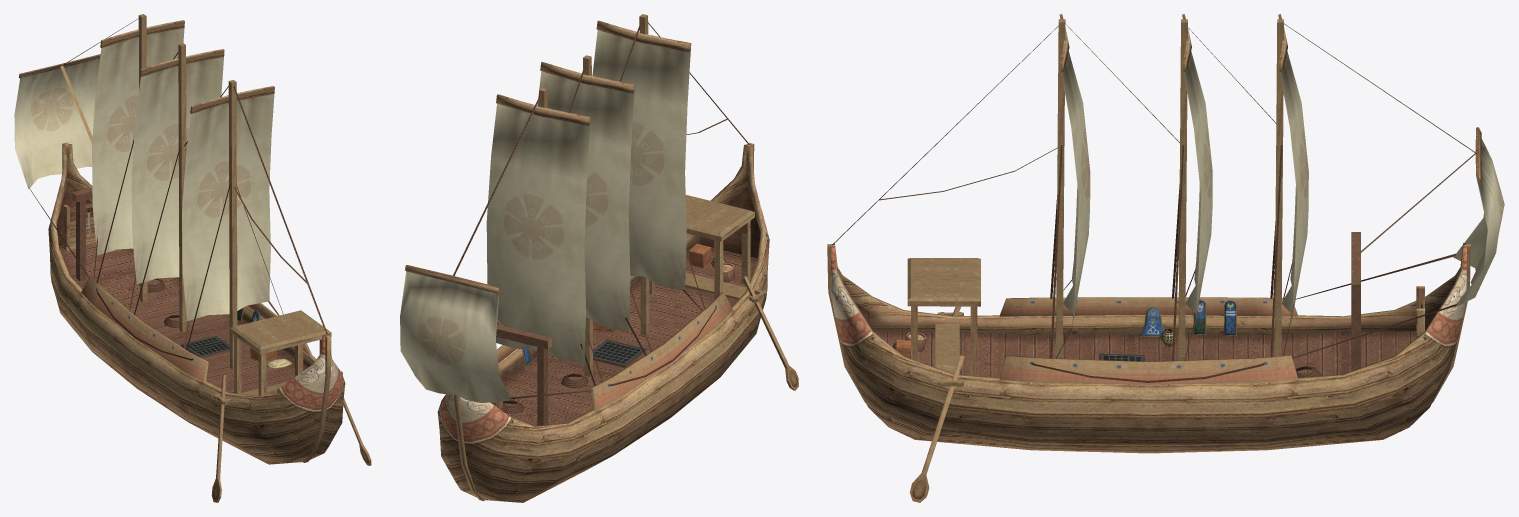
The model's file is maur_trireme.glb.
3 views of the same model, side by side, from view 1: azimuth 30°, elevation 25°; view 2: azimuth 150°, elevation 25°; view 3: azimuth 270°, elevation 25° (orthographic). The views are drawn at different scales.
Visible parts, largest first — view 1: maur_trireme_part0; view 2: maur_trireme_part0; view 3: maur_trireme_part0.
Boxes of the visible parts, left/top/right/bottom form: maur_trireme_part0: left=14, top=14, right=371, bottom=502; maur_trireme_part0: left=400, top=14, right=798, bottom=502; maur_trireme_part0: left=827, top=14, right=1504, bottom=502.
Size of the model in its own units: 2.25 by 4.98 by 7.
Materials: 9 (9 with a texture image).
